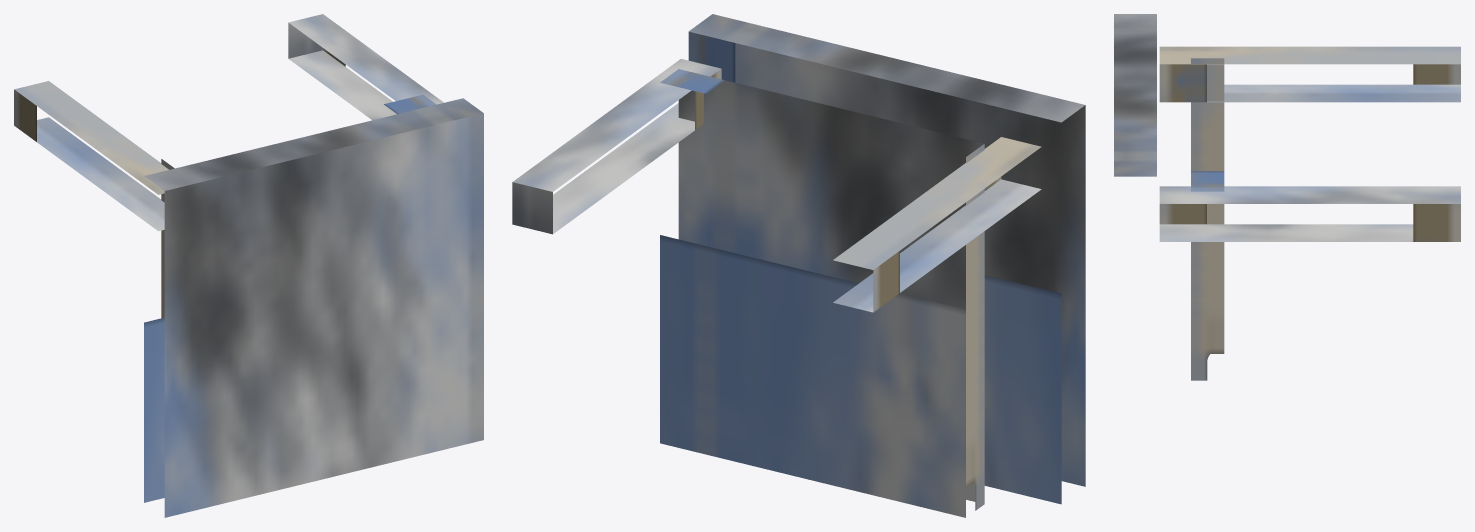
Rendered from section-2.obj.
The picture shows the model from 3 angles, left to right: view 1: azimuth 30°, elevation 25°; view 2: azimuth 150°, elevation 25°; view 3: azimuth 270°, elevation 25°; orthographic projection. The views are drawn at different scales.
Bounding box in the file's own units: 0.935 × 0.9 × 0.8288.
